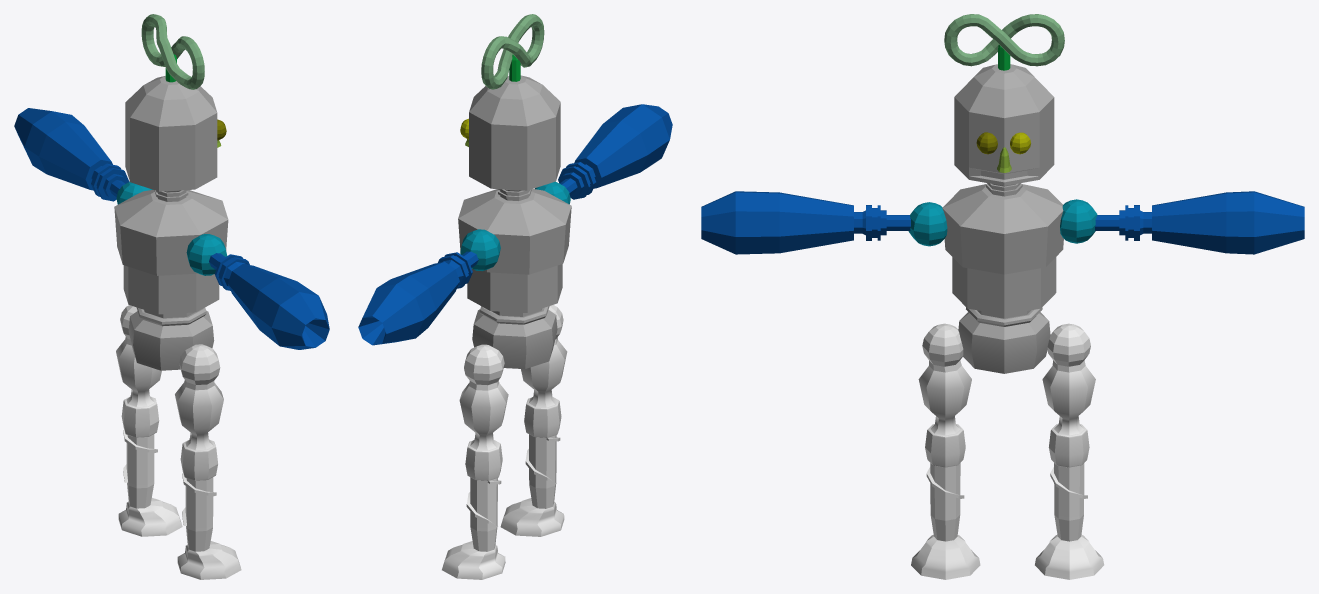
Rendered from robotito.fbx.
3 renders of one model, left to right at view 1: azimuth 30°, elevation 25°; view 2: azimuth 150°, elevation 25°; view 3: azimuth 270°, elevation 25°, orthographic. The views are drawn at different scales.
Parts seen in each view (by area): view 1: pasted__cuerpo, pasted__piernaderecha, pasted__piernaiquierda, pasted__brazoderecho, pasted__pasted__pCylinder1, pasted__sweep3, pasted__conecionderecho; view 2: pasted__cuerpo, pasted__piernaiquierda, pasted__piernaderecha, pasted__brazoderecho, pasted__pasted__pCylinder1, pasted__sweep3, pasted__pasted__pSphere1; view 3: pasted__cuerpo, pasted__piernaiquierda, pasted__piernaderecha, pasted__brazoderecho, pasted__pasted__pCylinder1, pasted__sweep3, pasted__conecionderecho, pasted__pasted__pSphere1.
Part boxes in pixels (x1=…): pasted__cuerpo: x1=114, y1=76, x2=228, y2=370; pasted__piernaderecha: x1=175, y1=344, x2=241, y2=579; pasted__piernaiquierda: x1=116, y1=305, x2=182, y2=536; pasted__brazoderecho: x1=209, y1=253, x2=329, y2=349; pasted__pasted__pCylinder1: x1=14, y1=108, x2=129, y2=201; pasted__sweep3: x1=141, y1=14, x2=204, y2=89; pasted__conecionderecho: x1=186, y1=234, x2=227, y2=275; pasted__cuerpo: x1=458, y1=75, x2=571, y2=369; pasted__piernaiquierda: x1=442, y1=344, x2=508, y2=579; pasted__piernaderecha: x1=500, y1=305, x2=567, y2=536; pasted__brazoderecho: x1=558, y1=104, x2=672, y2=199; pasted__pasted__pCylinder1: x1=358, y1=251, x2=478, y2=345; pasted__sweep3: x1=481, y1=14, x2=544, y2=89; pasted__pasted__pSphere1: x1=460, y1=229, x2=500, y2=271; pasted__cuerpo: x1=942, y1=64, x2=1063, y2=373; pasted__piernaiquierda: x1=1035, y1=323, x2=1104, y2=579; pasted__piernaderecha: x1=911, y1=323, x2=980, y2=579; pasted__brazoderecho: x1=701, y1=191, x2=910, y2=254; pasted__pasted__pCylinder1: x1=1095, y1=191, x2=1304, y2=254; pasted__sweep3: x1=944, y1=14, x2=1064, y2=66; pasted__conecionderecho: x1=908, y1=202, x2=947, y2=246; pasted__pasted__pSphere1: x1=1060, y1=199, x2=1097, y2=243.
Bounding box in the file's own units: 1.24 × 6.04 × 6.04.
